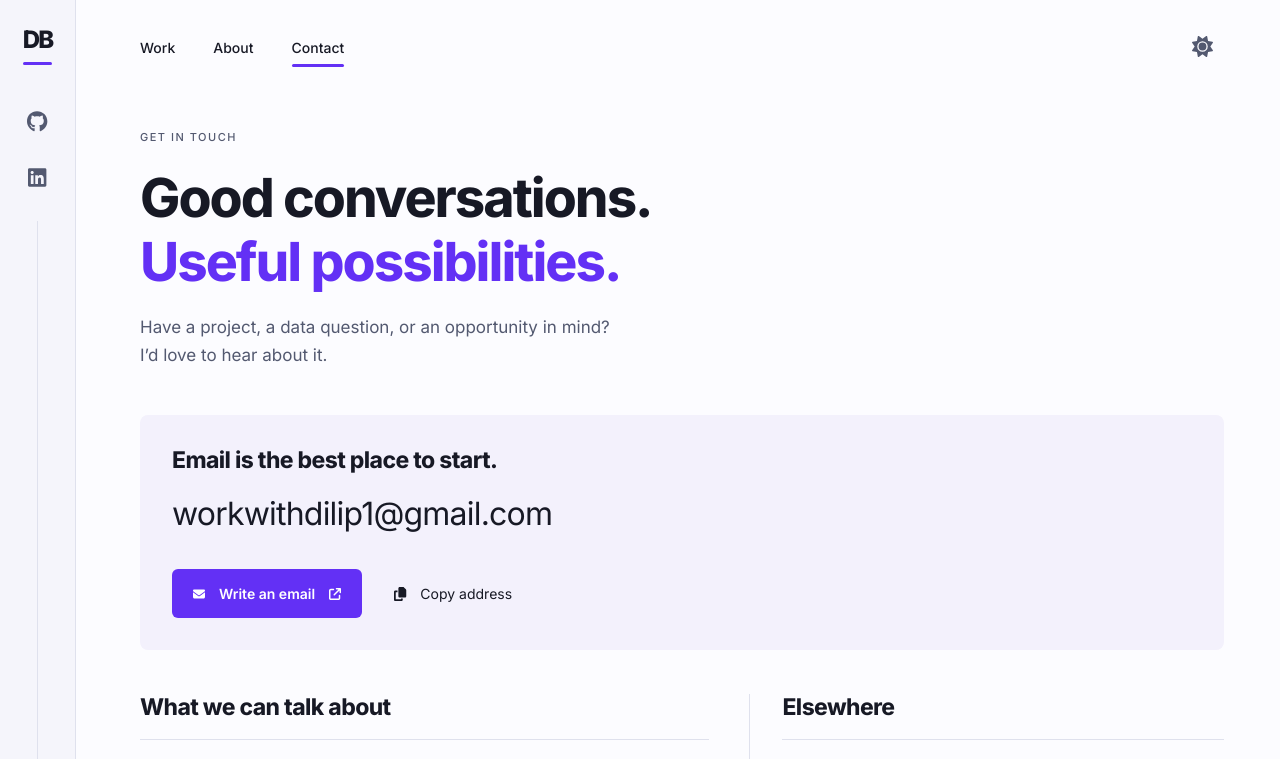
copies the real contact address and reports success only after completion
Click the button "Copy address" at (453, 594), box [386,572,520,616]
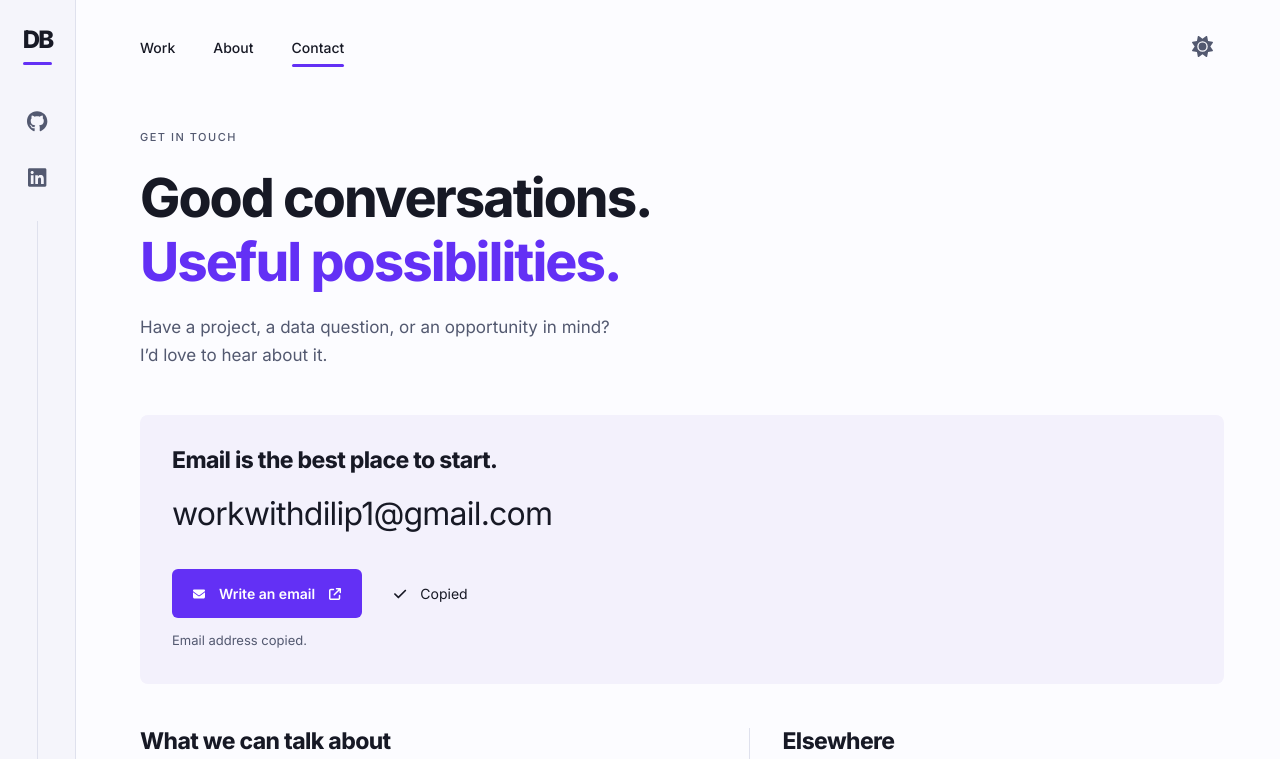
Expected: the message reads "Email address copied.", [172,632,307,648]
